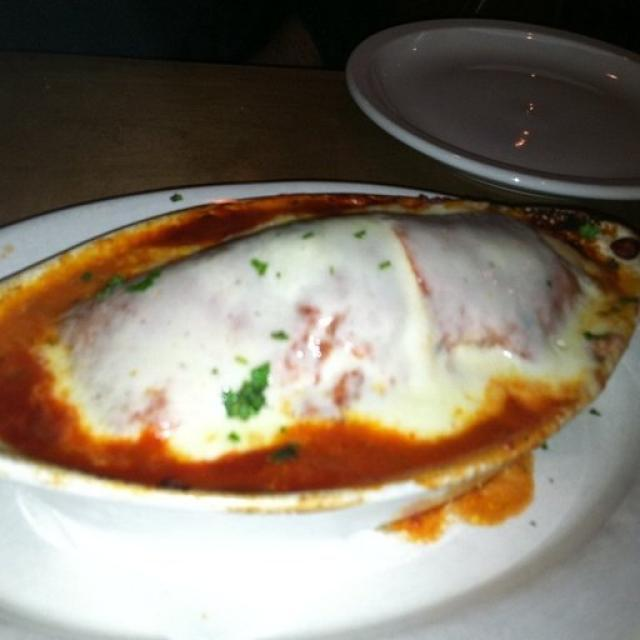Lasagna: (60, 196, 575, 478)
